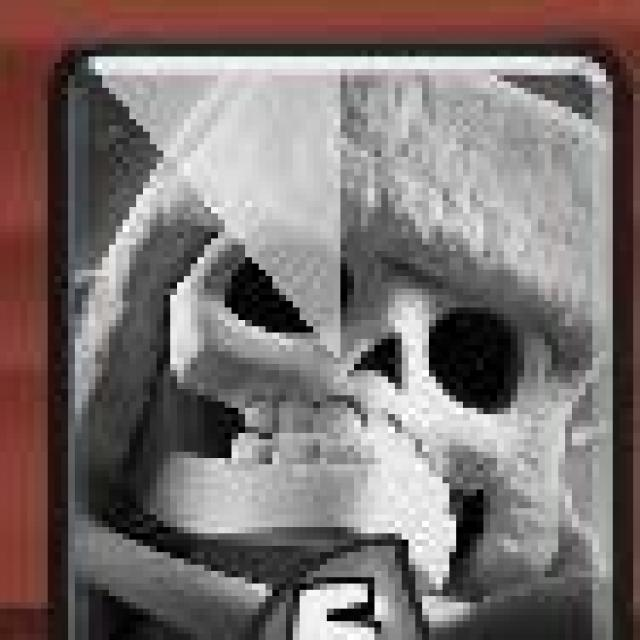Giant_Skeleton: (50, 48, 636, 640)
